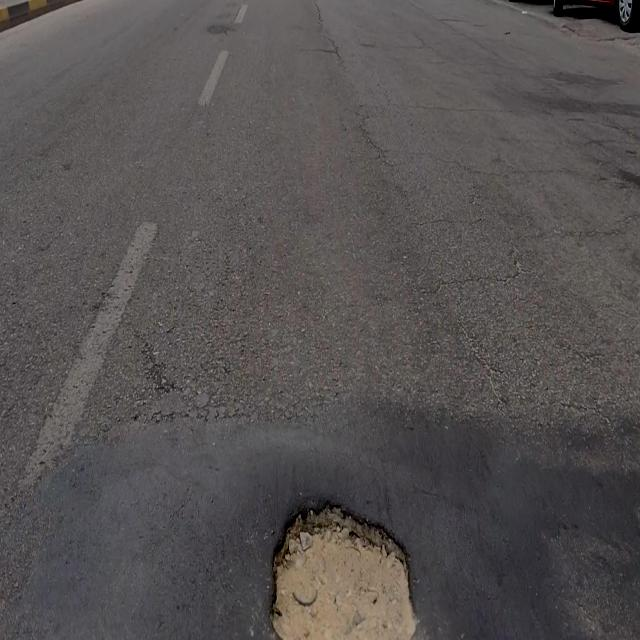Potholes: (267, 496, 420, 640)
